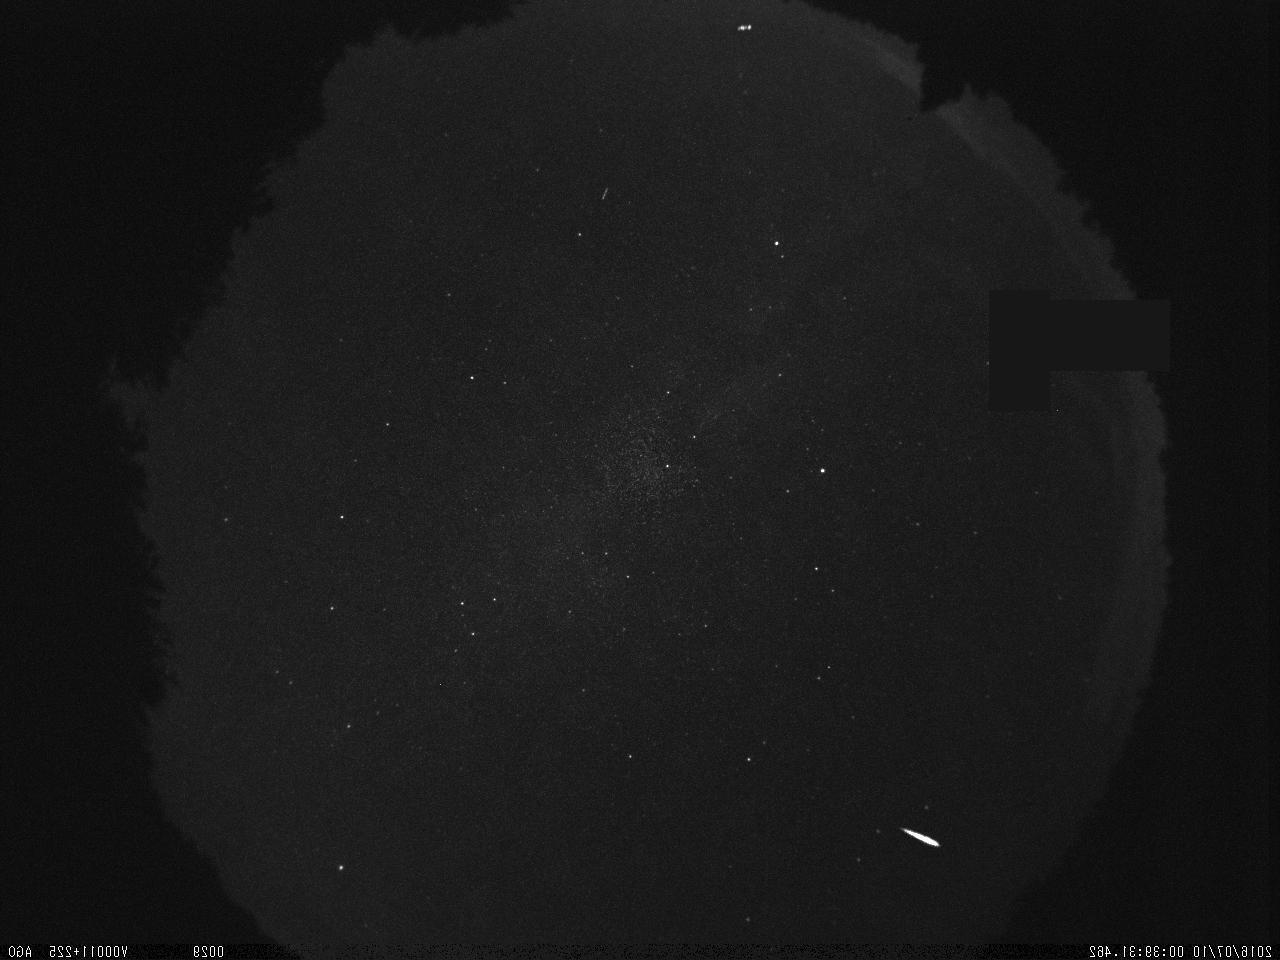meteor: (895, 819, 958, 855)
